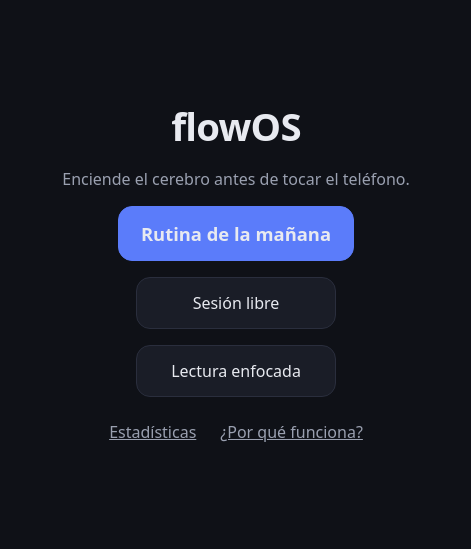
Test: App › navega a sesión libre y arranca un ejercicio individual
Click the button "Sesión libre" at (236, 302), box left=136, top=276, right=336, bottom=328
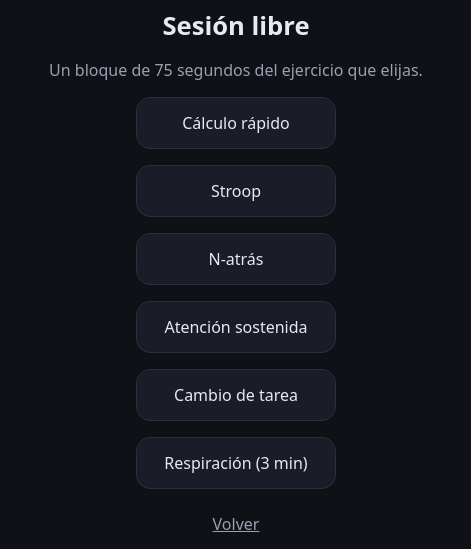
Click the button "Stroop" at (236, 190), box left=136, top=164, right=336, bottom=216
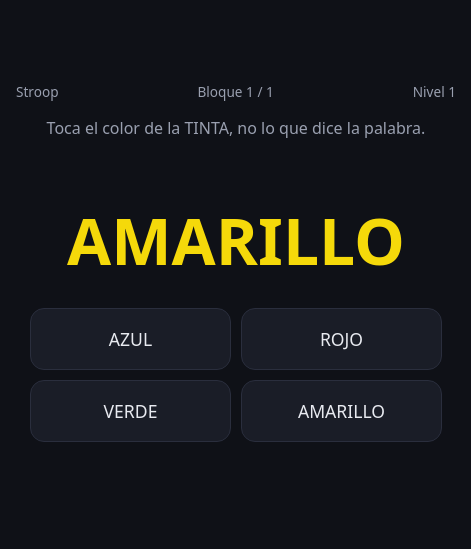
Result: the text "Bloque 1 / 1" is shown at left=198, top=82, right=274, bottom=101
